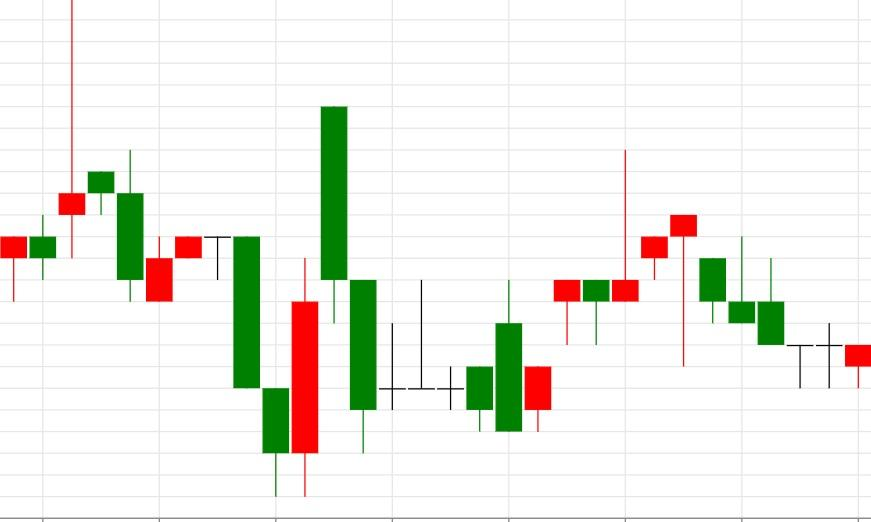bullish_engulfing_rise: (175, 236, 319, 497)
